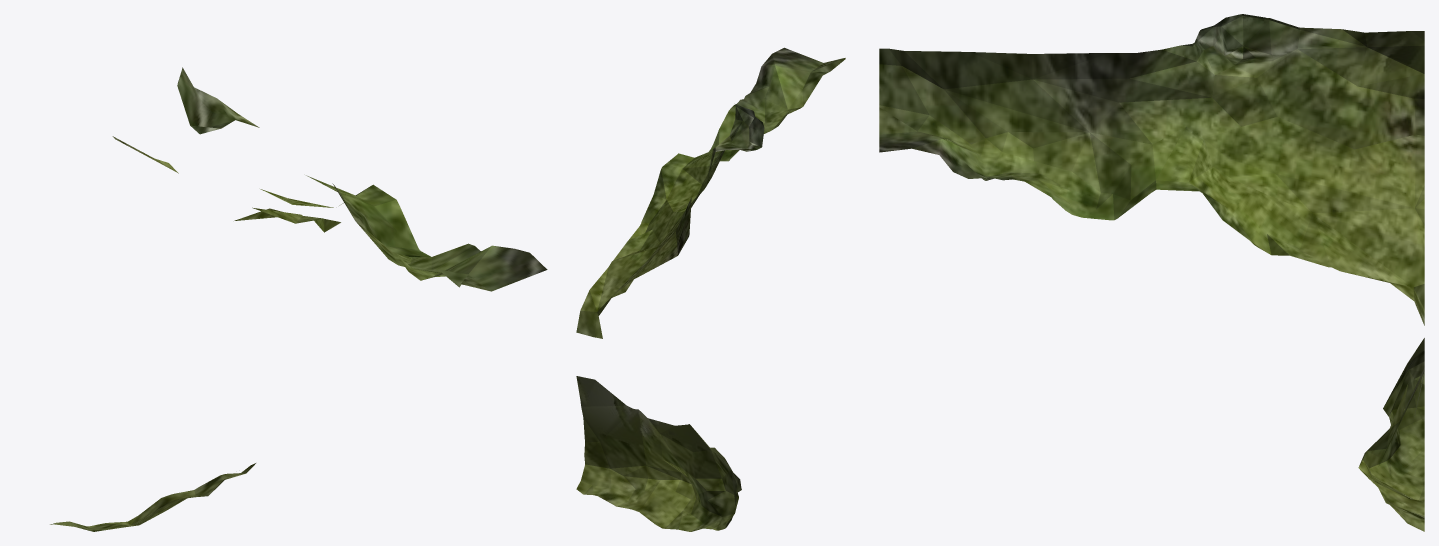
The picture shows the model from 3 angles, left to right: view 1: azimuth 30°, elevation 25°; view 2: azimuth 150°, elevation 25°; view 3: azimuth 270°, elevation 25°; orthographic projection. The views are drawn at different scales.
Size of the model in its own units: 1.36 by 2.8 by 2.95.
2 materials, 2 textured.
